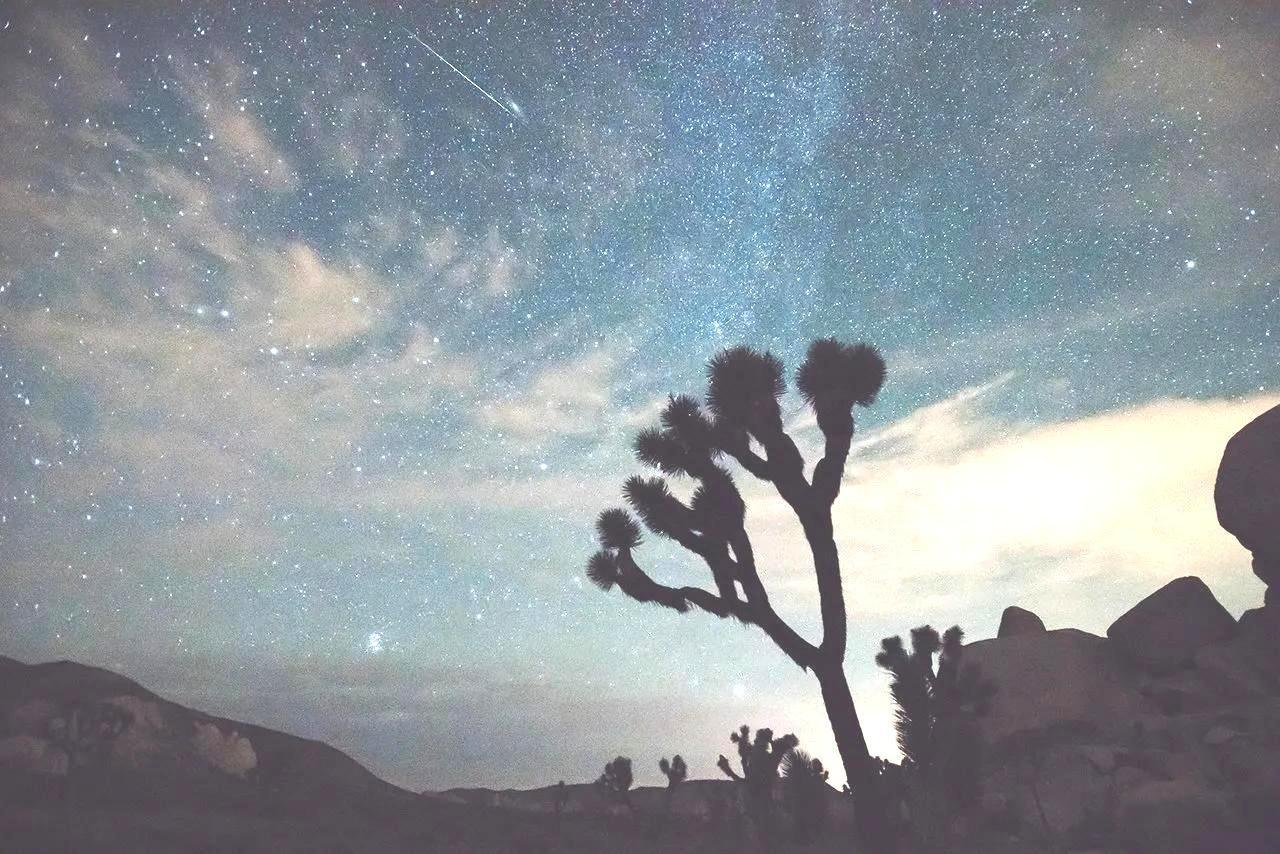meteorite: (393, 32, 541, 124)
